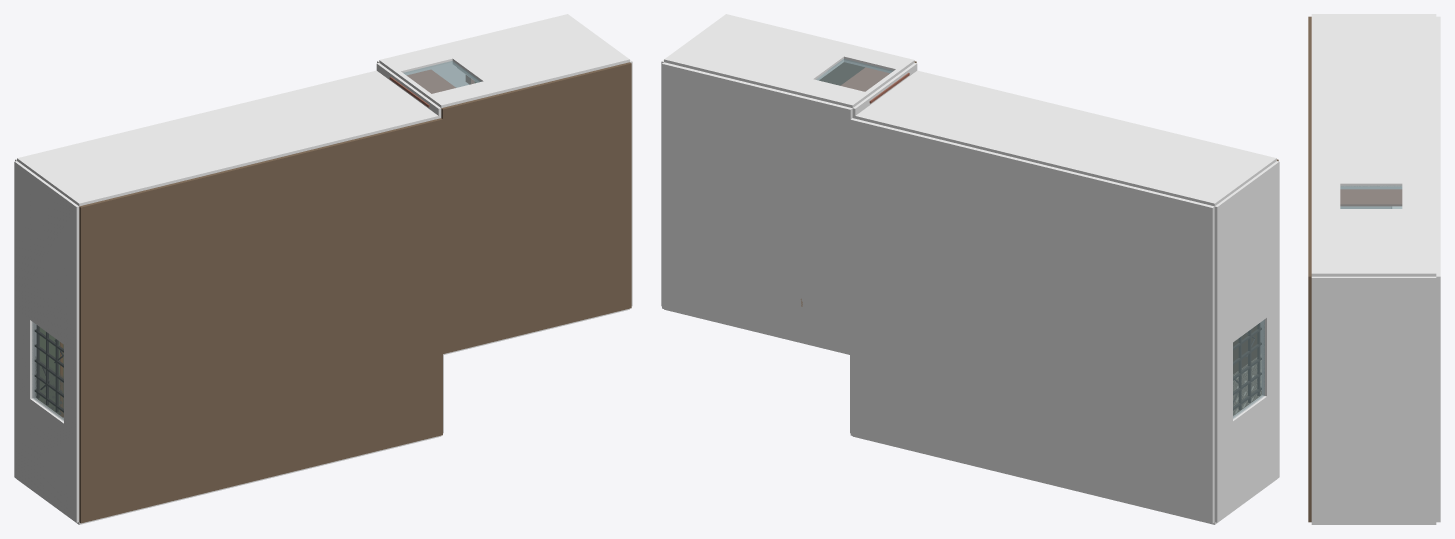
Rendered from fly-house.glb.
3 renders of one model, left to right at view 1: azimuth 30°, elevation 25°; view 2: azimuth 150°, elevation 25°; view 3: azimuth 270°, elevation 25°, orthographic.
Parts seen in each view (by area): view 1: CEILING__main, CEILING__bed, WALL__main__north, WALL__main__west_b, WALL__bed__north_b, WALL__main__west_a, window-glass, WALL__main__west_sill, bedroom-window, WALL__main__west_head, WALL__bed__north_sill, WALL__bed__north_head (+1 smaller); view 2: FLOOR__main, FLOOR__bed, WALL__main__north, WALL__main__west_b, WALL__bed__north_b, WALL__main__west_a, window-glass, WALL__main__west_sill, bedroom-window, WALL__main__west_head, WALL__bed__north_sill, WALL__bed__north_head (+1 smaller); view 3: WALL__bed__east, WALL__main__north, WALL__bed__north_b, FLOOR__bed, bedroom-window, CEILING__bed, WALL__bed__north_sill, FLOOR__main, WALL__bed__north_head, WALL__bed__north_a, CEILING__main, bed-curtain-3 (+3 smaller).
Boxes of the visible parts, x1,y1,x2,y2 form: CEILING__main: (79,118,442,523); CEILING__bed: (441,62,631,353); WALL__main__north: (17,70,441,206); WALL__main__west_b: (14,161,79,353); WALL__bed__north_b: (436,14,629,94); WALL__main__west_a: (14,387,79,522); window-glass: (32,322,63,420); WALL__main__west_sill: (14,308,35,398); bedroom-window: (403,61,480,93); WALL__main__west_head: (64,345,79,432); WALL__bed__north_sill: (384,46,452,75); WALL__bed__north_head: (432,81,497,106); FLOOR__main: (850,118,1214,523); FLOOR__bed: (662,62,852,354); WALL__main__north: (854,70,1276,206); WALL__main__west_b: (1214,161,1279,353); WALL__bed__north_b: (664,14,857,94); WALL__main__west_a: (1214,387,1279,522); window-glass: (1233,319,1264,418); WALL__main__west_sill: (1214,343,1232,432); bedroom-window: (816,59,893,91); WALL__main__west_head: (1262,308,1279,396); WALL__bed__north_sill: (796,79,864,106); WALL__bed__north_head: (844,46,909,72); WALL__bed__east: (1311,276,1436,523); WALL__main__north: (1311,14,1436,181); WALL__bed__north_b: (1311,209,1436,276); FLOOR__bed: (1436,184,1440,522); bedroom-window: (1340,185,1402,208); CEILING__bed: (1308,184,1311,522); WALL__bed__north_sill: (1402,183,1436,208); FLOOR__main: (1436,16,1440,184); WALL__bed__north_head: (1311,183,1340,208); WALL__bed__north_a: (1311,181,1436,189); CEILING__main: (1308,16,1311,184); bed-curtain-3: (1340,199,1402,206).
Bounding box in the file's own units: 14.74 × 8.39 × 3.03.
